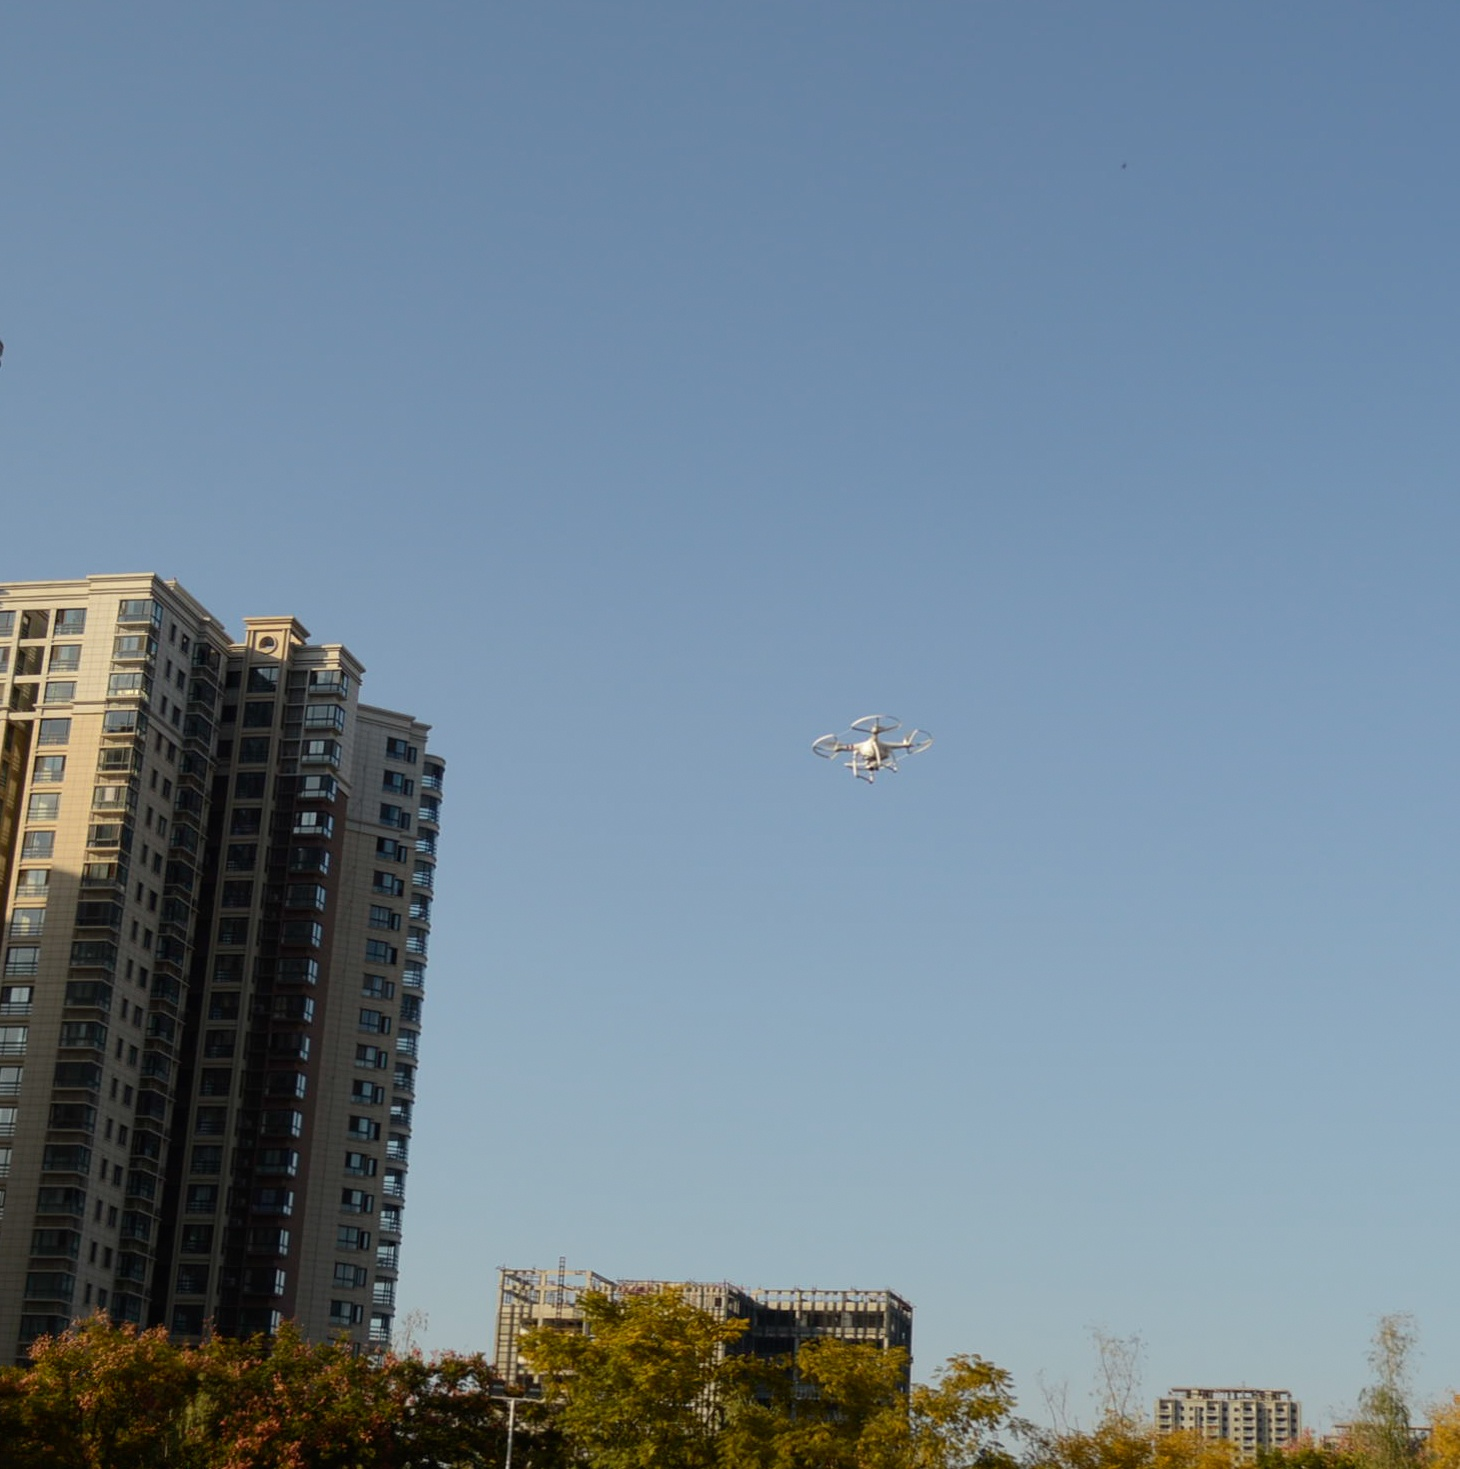DJI: (808, 708, 931, 789)
